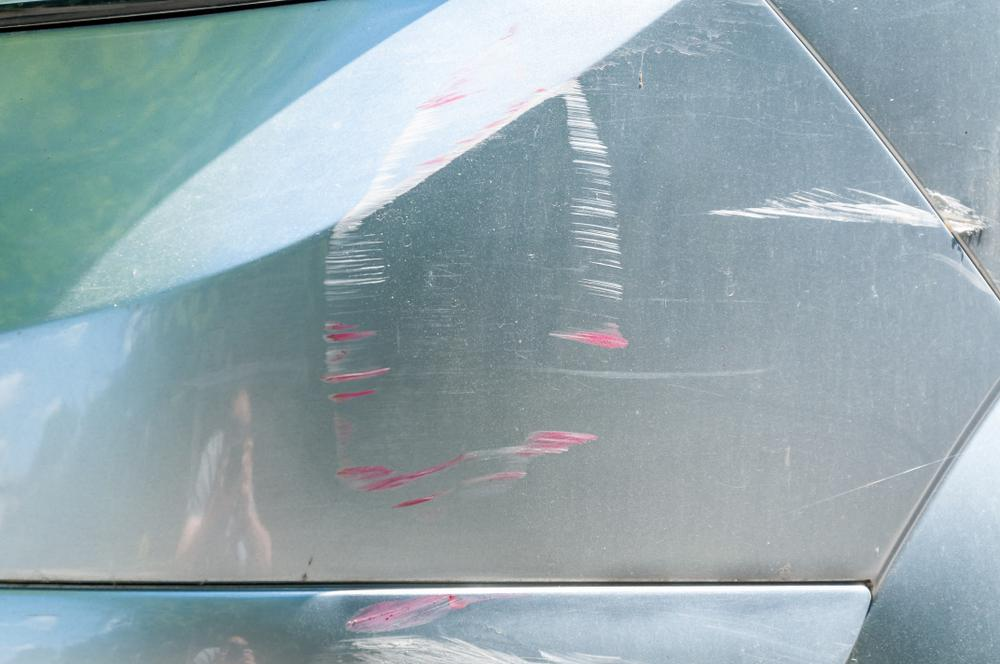scratch: (321, 22, 626, 514), (326, 589, 655, 664), (698, 183, 953, 230), (925, 186, 994, 234)
